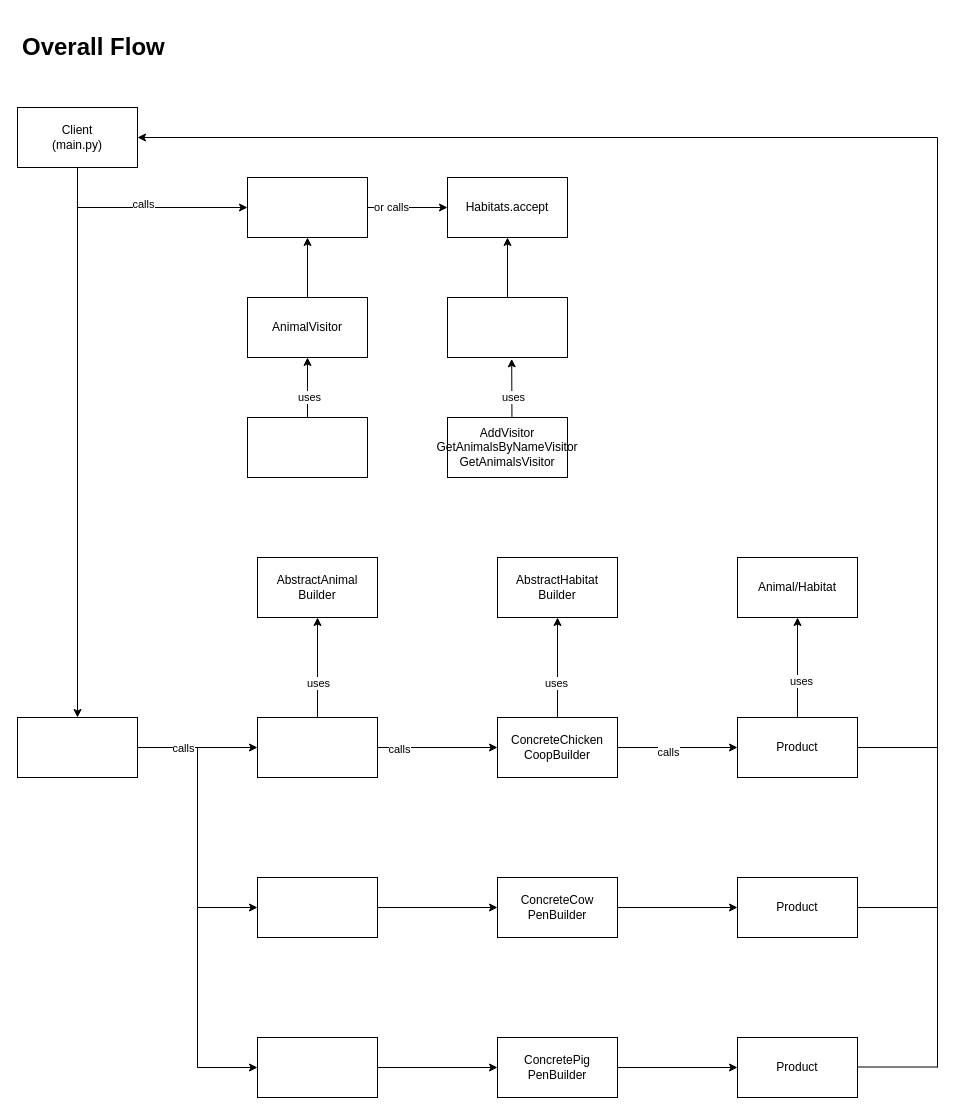
Some shapes in this 963 by 1115 pixel diagram are drawn without their labels. The shapes that lost their labels are listed below. From the top down, each one's centre as x and y in pixels, then its label:
At point 307,207: "Animals.accept".
At point 507,327: "HabitatVisitor".
At point 307,447: "BirthVisitor FeedVisitor MateVisitor SpeakVisitor".
At point 77,747: "Director".
At point 317,747: "ChickenBuilder".
At point 317,907: "CowBuilder".
At point 317,1067: "PigBuilder".
